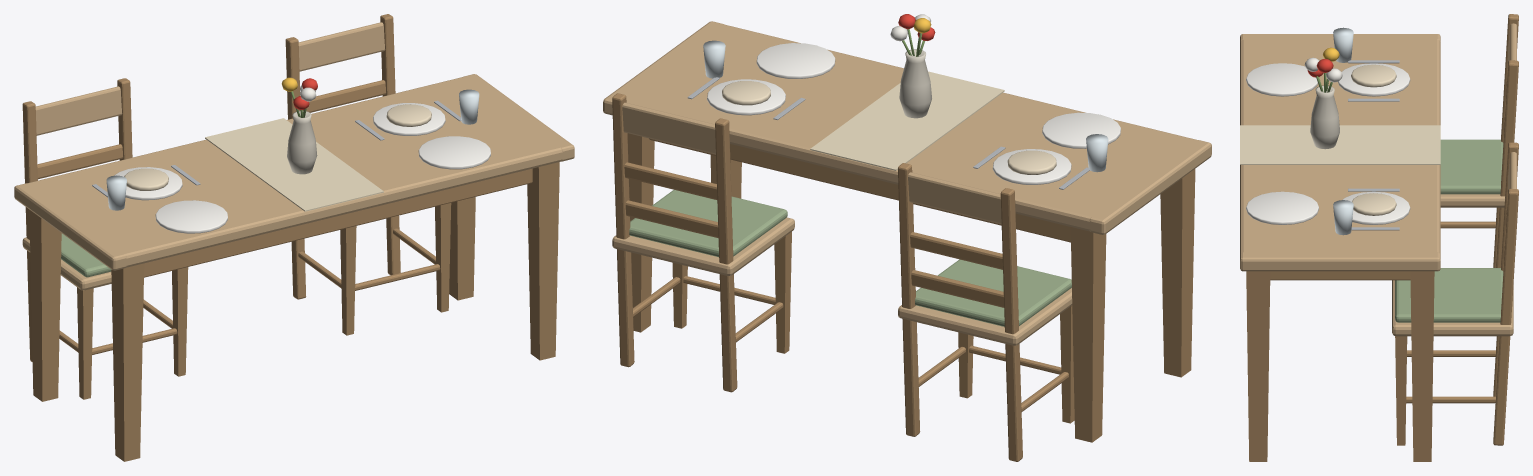
File: diningOak.glb
3 renders of one model, left to right at view 1: azimuth 30°, elevation 25°; view 2: azimuth 150°, elevation 25°; view 3: azimuth 270°, elevation 25°, orthographic. The views are drawn at different scales.
Parts seen in each view (by area): view 1: diningOak; view 2: diningOak; view 3: diningOak.
Part boxes in pixels (<box>): diningOak: <box>14,14,574,461</box>; diningOak: <box>603,14,1211,461</box>; diningOak: <box>1240,14,1518,461</box>.
Bounding box in the file's own units: 1.76 × 1.1 × 0.9171.
